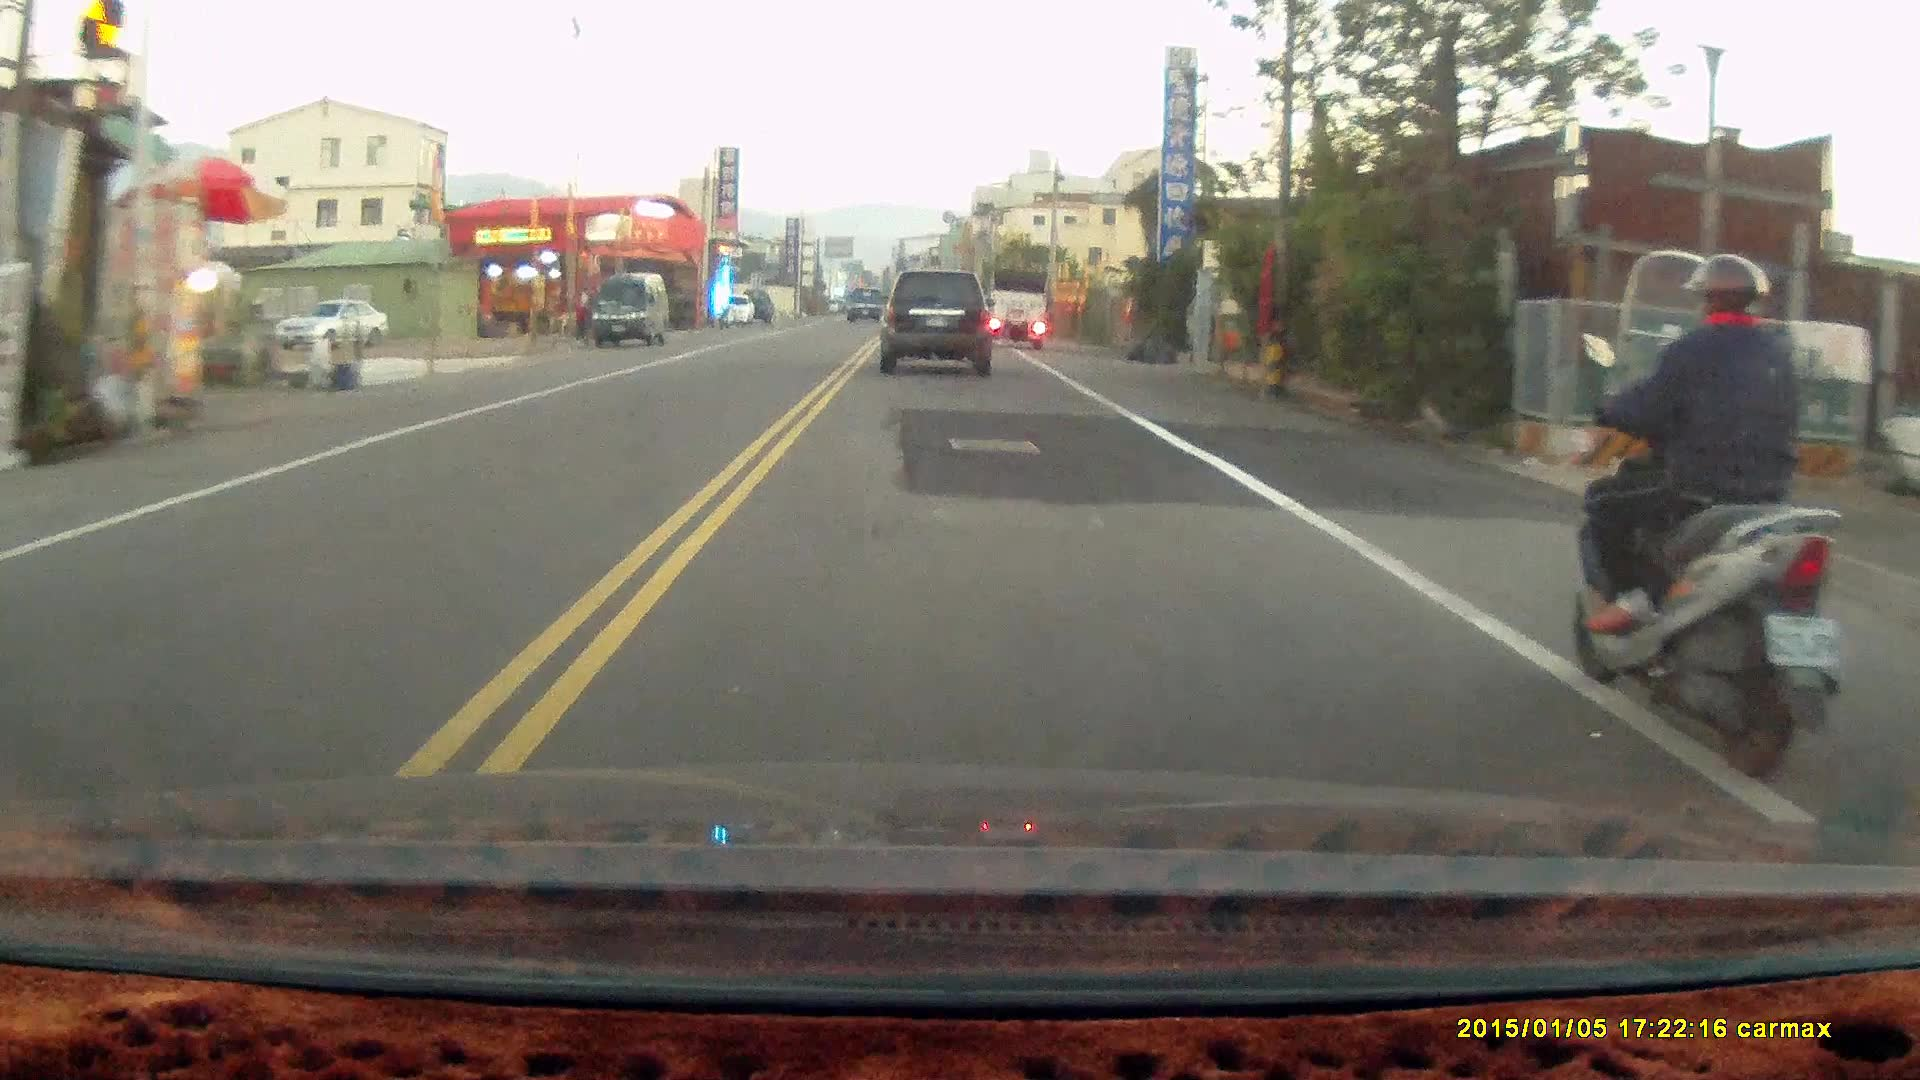rider: (1569, 251, 1840, 777)
vehicle: (880, 271, 998, 377), (590, 274, 672, 352), (275, 298, 389, 352), (988, 272, 1051, 352)
